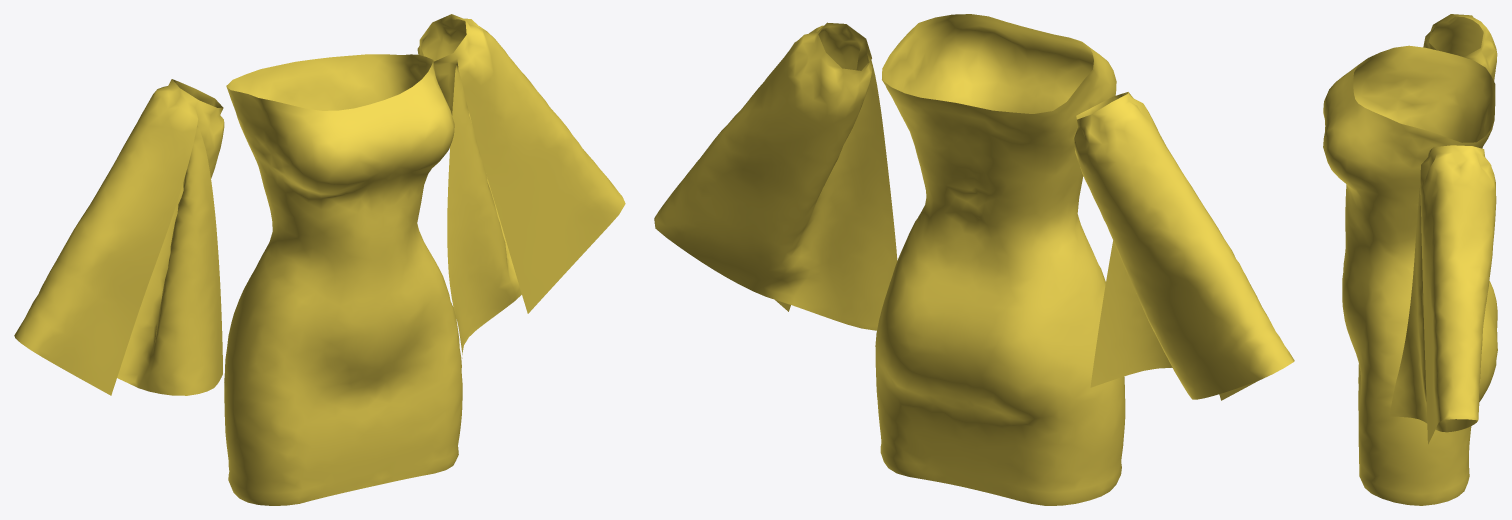
The model's file is yellow.glb.
3 renders of one model, left to right at view 1: azimuth 30°, elevation 25°; view 2: azimuth 150°, elevation 25°; view 3: azimuth 270°, elevation 25°, orthographic. The views are drawn at different scales.
Parts seen in each view (by area): view 1: Yellow dress; view 2: Yellow dress; view 3: Yellow dress.
Part boxes in pixels (box(x1,y1,x2,y2)): Yellow dress: box(14, 14, 625, 505); Yellow dress: box(654, 14, 1294, 505); Yellow dress: box(1323, 14, 1497, 505).
Size of the model in its own units: 1006 by 653 by 271.
